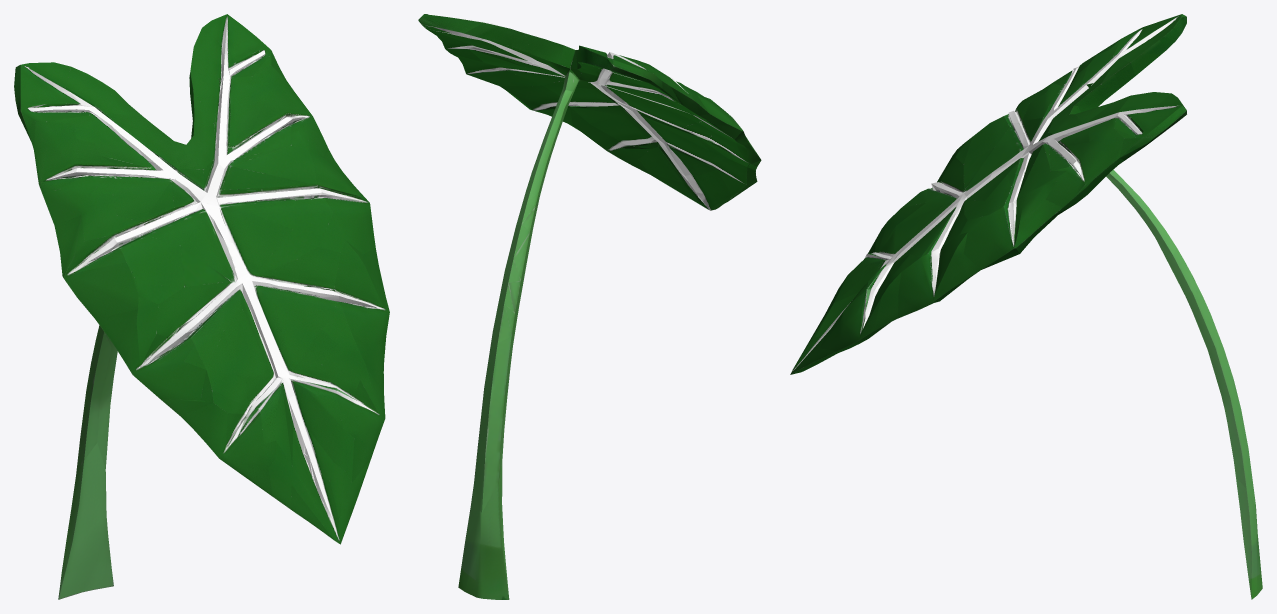
Rendered from al_leaf_mature.glb.
The picture shows the model from 3 angles, left to right: view 1: azimuth 30°, elevation 25°; view 2: azimuth 150°, elevation 25°; view 3: azimuth 270°, elevation 25°; orthographic projection. The views are drawn at different scales.
Bounding box in the file's own units: 1.05 × 1.9 × 1.54.
1 material, 1 textured.
